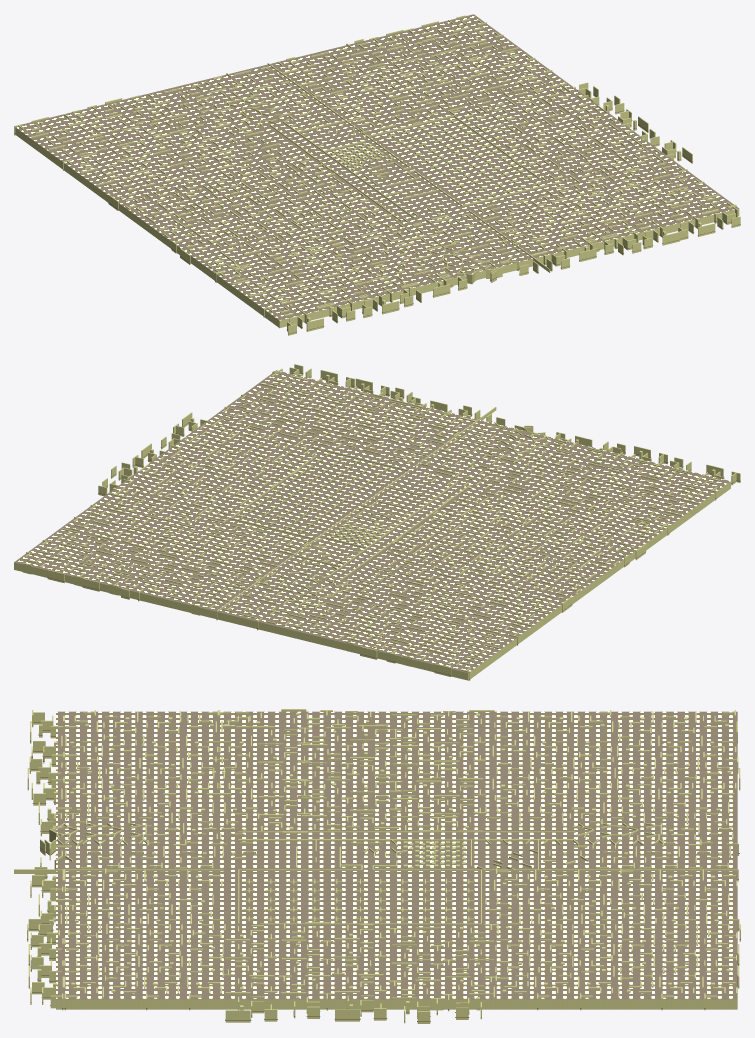
Rendered from backrooms v2.glb.
The picture shows the model from 3 angles, top to bottom: view 1: azimuth 30°, elevation 25°; view 2: azimuth 150°, elevation 25°; view 3: azimuth 270°, elevation 25°; orthographic projection. The views are drawn at different scales.
Visible parts, largest first — view 1: Cube; view 2: Cube; view 3: Cube, Cube.330, Cube.318, Cube.059, Cube.309, Cube.603, Cube.576, Cube.596.
Boxes of the visible parts, left/top/right/bottom form: Cube: left=15, top=14, right=739, bottom=328; Cube: left=14, top=370, right=730, bottom=680; Cube: left=56, top=711, right=737, bottom=1009; Cube.330: left=225, top=996, right=277, bottom=1022; Cube.318: left=334, top=995, right=387, bottom=1021; Cube.059: left=238, top=831, right=575, bottom=832; Cube.309: left=391, top=997, right=443, bottom=1023; Cube.603: left=30, top=976, right=65, bottom=1010; Cube.576: left=27, top=756, right=62, bottom=790; Cube.596: left=28, top=955, right=63, bottom=988.
Size of the model in its own units: 578 by 19.47 by 586.
4 materials, 4 textured.
